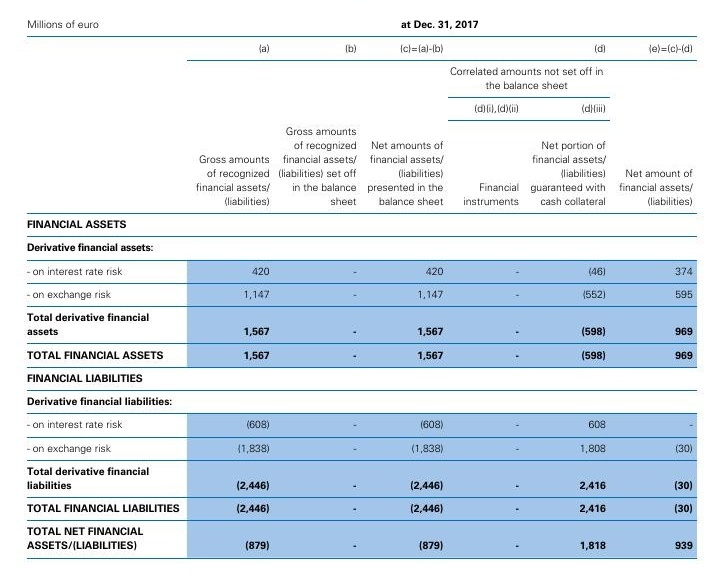table: (0, 0, 718, 576)
